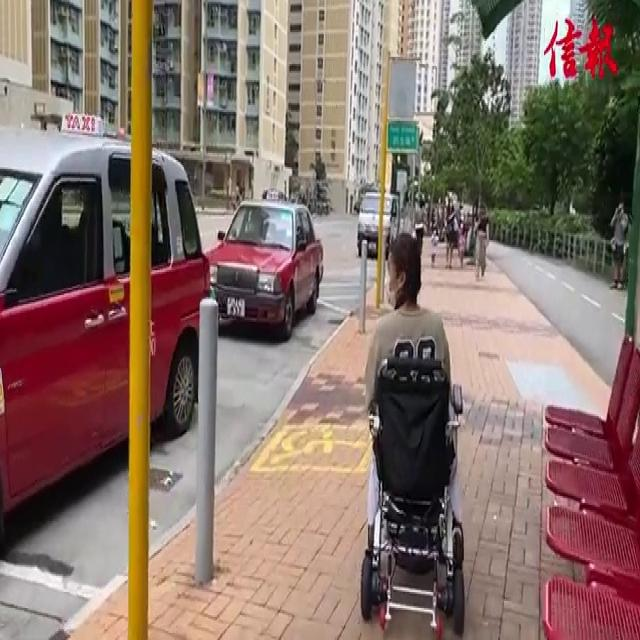wheelchairs: (356, 340, 483, 637)
